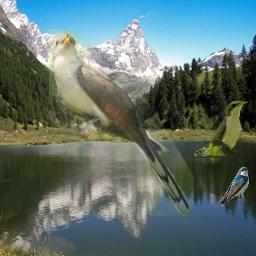Cuckoo: (49, 29, 194, 216), (194, 99, 249, 164)
Swallow: (216, 166, 250, 207)
